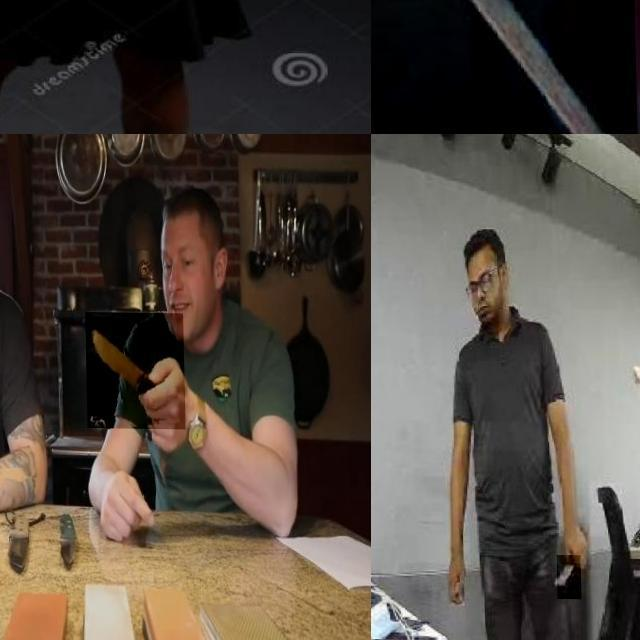-: (371, 0, 636, 134), (84, 311, 184, 428), (12, 0, 97, 70), (554, 554, 579, 598)
